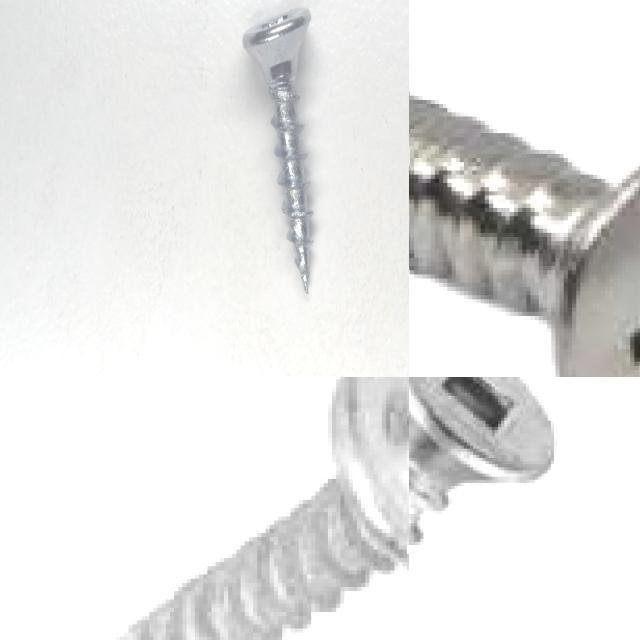Screw: (105, 377, 409, 640), (409, 91, 640, 377), (409, 377, 557, 549), (242, 7, 311, 291)
